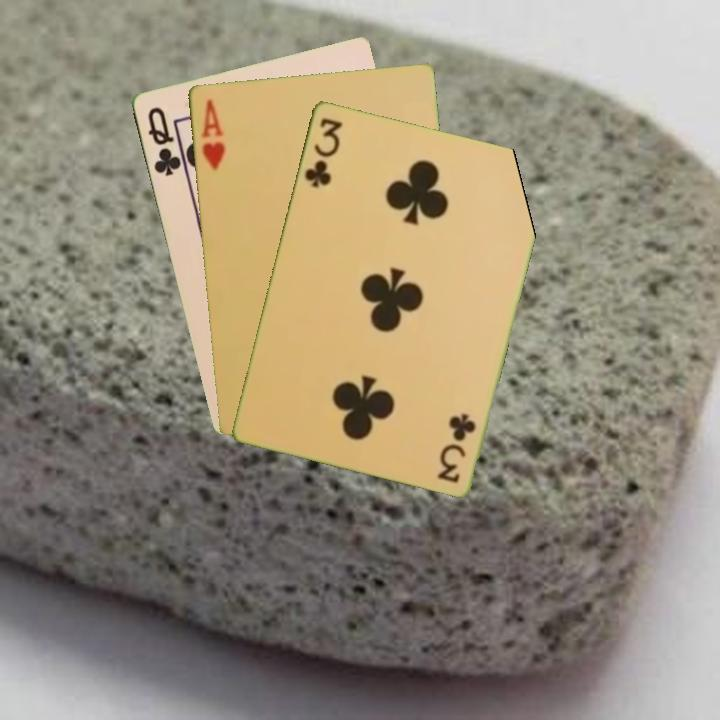3c: (300, 114, 345, 190), (435, 409, 479, 485)
Ah: (197, 95, 228, 173)
Qc: (143, 103, 184, 179)
